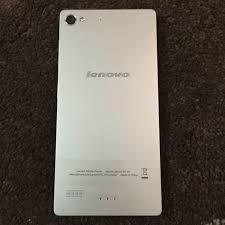lenovo: (50, 5, 165, 218)
